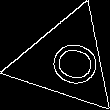O_W: (34, 32, 98, 90)
